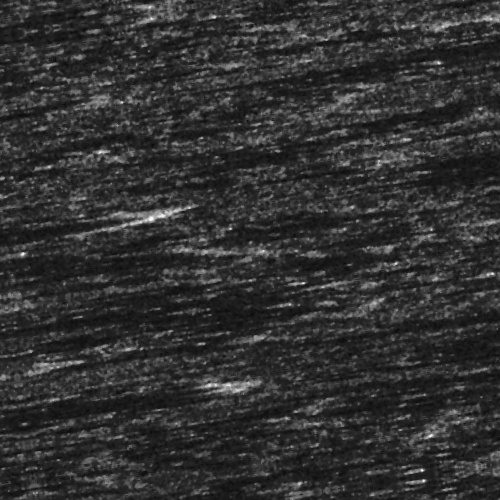object: (137, 366, 282, 391), (158, 232, 251, 251), (0, 320, 98, 337), (390, 395, 495, 404), (205, 327, 258, 342), (401, 252, 500, 259), (433, 49, 500, 58), (0, 470, 45, 479), (356, 179, 409, 186), (461, 416, 500, 425), (69, 74, 122, 79), (171, 193, 182, 204), (248, 411, 269, 414)
shadow: (0, 366, 209, 391), (0, 232, 204, 251), (253, 76, 500, 91), (188, 395, 442, 404), (97, 327, 231, 342), (0, 193, 177, 204), (275, 49, 469, 58), (321, 416, 500, 425), (300, 346, 500, 353), (251, 179, 382, 186), (326, 252, 453, 259), (0, 411, 258, 414), (0, 74, 95, 79)
